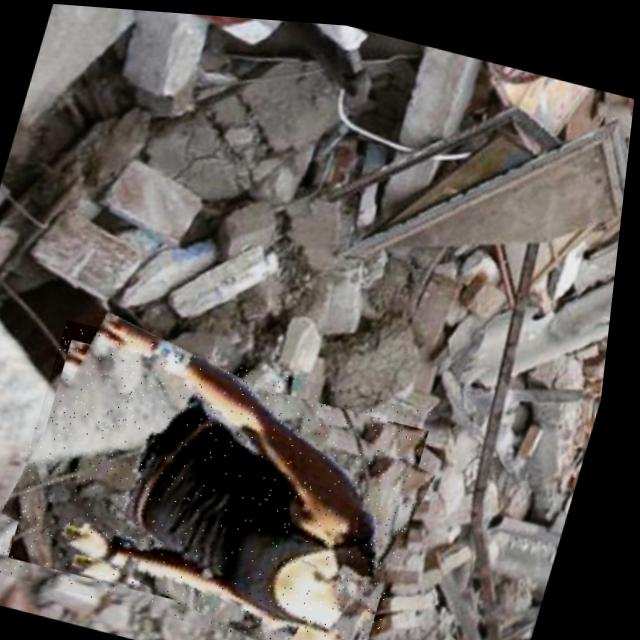Person in Rubble: (0, 315, 456, 640)
